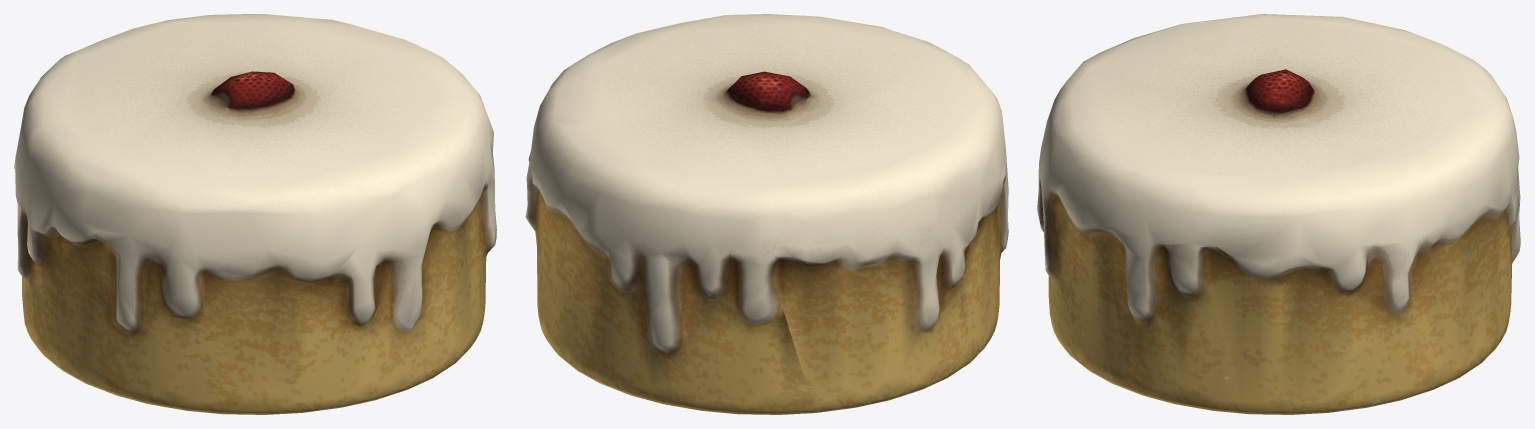
File: s_cake_01.fbx
3 views of the same model, side by side, from view 1: azimuth 30°, elevation 25°; view 2: azimuth 150°, elevation 25°; view 3: azimuth 270°, elevation 25° (orthographic).
Parts seen in each view (by area): view 1: s cake 01; view 2: s cake 01; view 3: s cake 01.
Part boxes in pixels (x1,y1,x2,y2): s cake 01: (14,14,496,414); s cake 01: (525,14,1008,414); s cake 01: (1037,14,1520,414).
Bounding box in the file's own units: 75.56 × 42.25 × 75.76.
